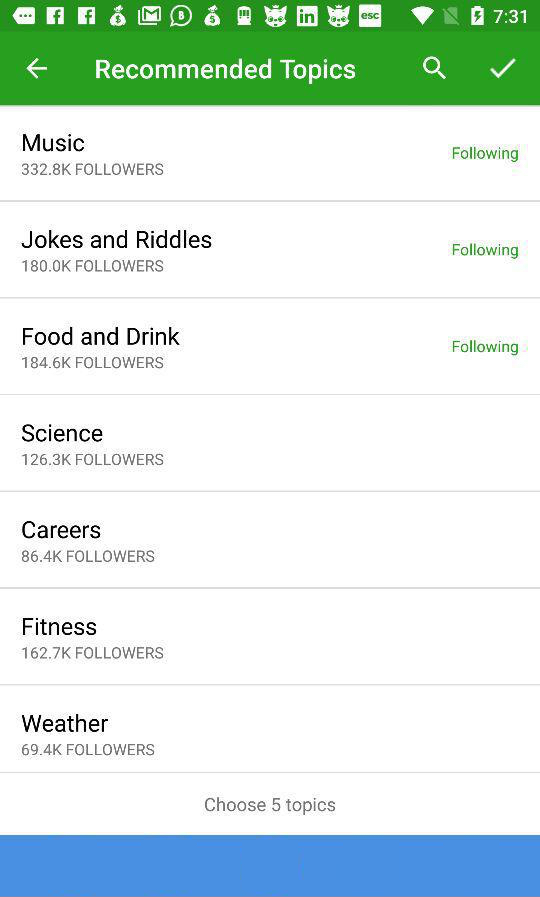Icon: (488, 58, 517, 80), (422, 56, 447, 81), (27, 58, 49, 80)
Text: (96, 59, 356, 86), (22, 229, 213, 249), (23, 327, 181, 347), (205, 796, 336, 816), (22, 646, 164, 660), (22, 260, 164, 274), (22, 163, 164, 177), (23, 549, 156, 563), (22, 453, 164, 466), (22, 357, 164, 370), (22, 743, 155, 756), (22, 714, 109, 733), (22, 423, 104, 443), (22, 521, 101, 540), (23, 617, 97, 636), (23, 134, 86, 153), (453, 339, 519, 356), (453, 243, 519, 260), (453, 147, 519, 163)
Toolbar: (1, 33, 540, 106)
UpperTaskBar: (1, 1, 540, 33)
